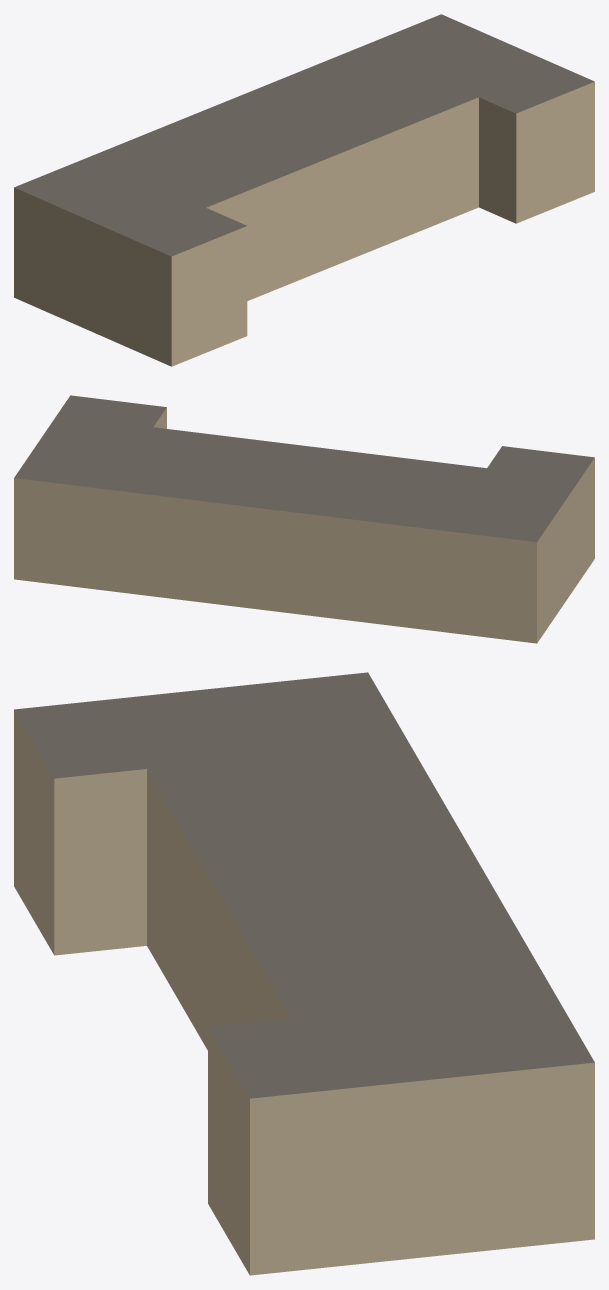
3 renders of one model, top to bottom at view 1: azimuth 30°, elevation 25°; view 2: azimuth 150°, elevation 25°; view 3: azimuth 270°, elevation 25°, orthographic. The views are drawn at different scales.
Parts seen in each view (by area): view 1: HP-w299225200; view 2: HP-w299225200; view 3: HP-w299225200.
Part boxes in pixels (left/top/right/bottom): HP-w299225200: left=14, top=14, right=594, bottom=366; HP-w299225200: left=14, top=395, right=594, bottom=643; HP-w299225200: left=14, top=672, right=594, bottom=1275.
Size of the model in its own units: 68.22 by 13.2 by 39.29.
